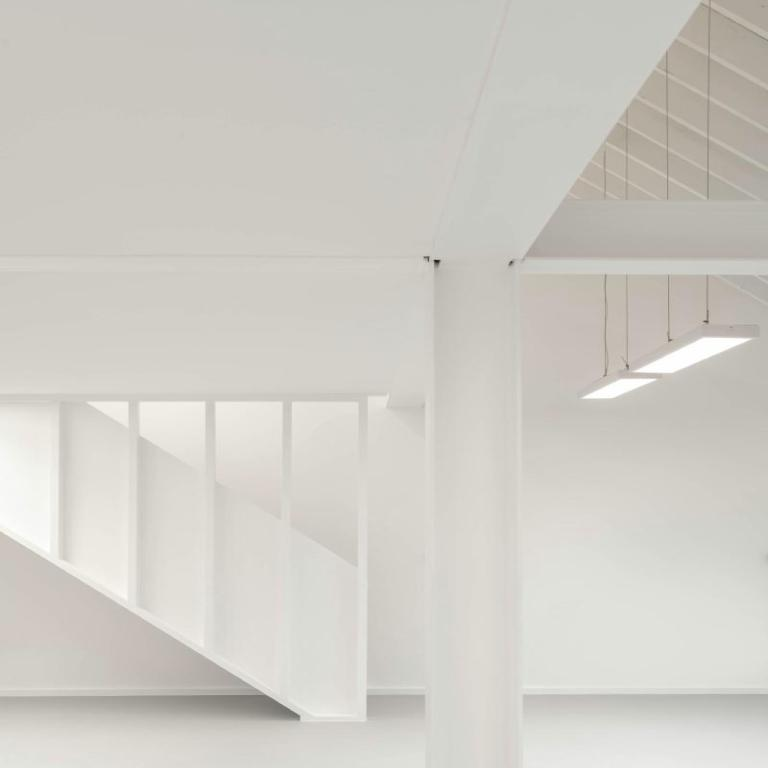white-walls: (67, 33, 470, 188), (552, 448, 731, 675)
